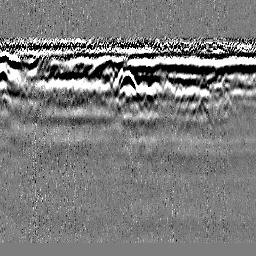cavity: (118, 70, 137, 89)
